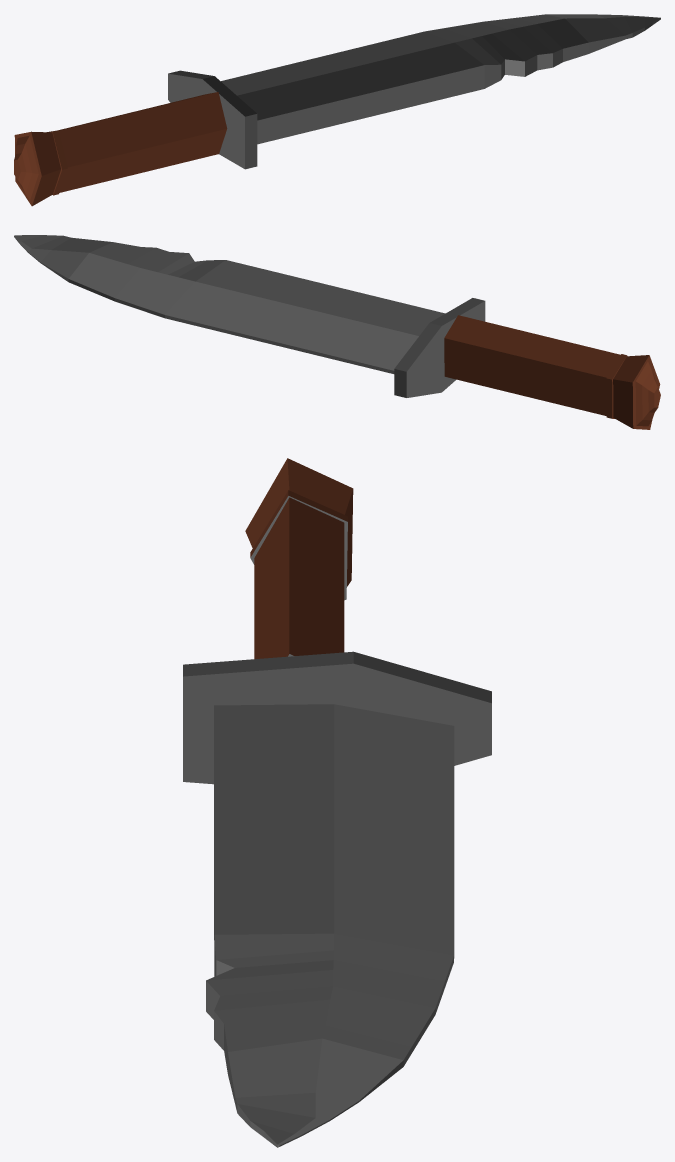
File: Knife.fbx
3 views of the same model, one above another, from view 1: azimuth 30°, elevation 25°; view 2: azimuth 150°, elevation 25°; view 3: azimuth 270°, elevation 25° (orthographic). The views are drawn at different scales.
Parts seen in each view (by area): view 1: Node 0; view 2: Node 0; view 3: Node 0.
Part boxes in pixels (left/top/right/bottom): Node 0: left=14, top=14, right=660, bottom=206; Node 0: left=14, top=235, right=660, bottom=429; Node 0: left=183, top=458, right=491, bottom=1147.
Bounding box in the file's own units: 0.0566 × 0.03 × 0.2699.
